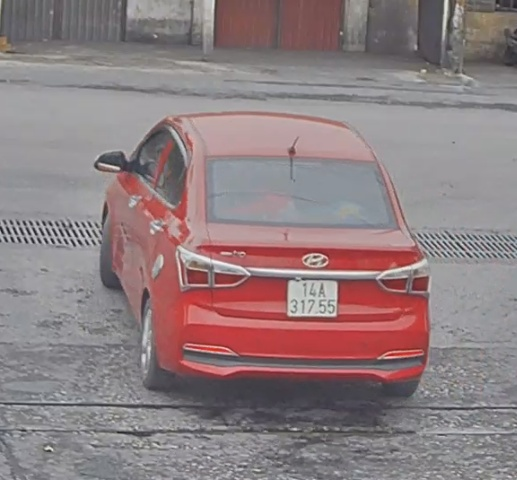vehicle plate: (283, 274, 343, 323)
